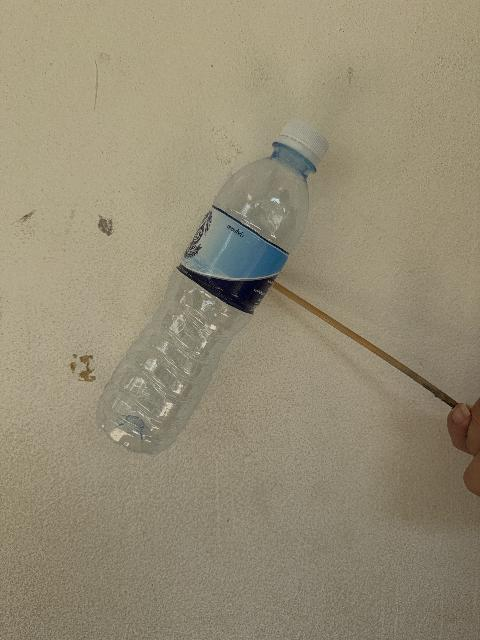bottle: (96, 120, 327, 454)
